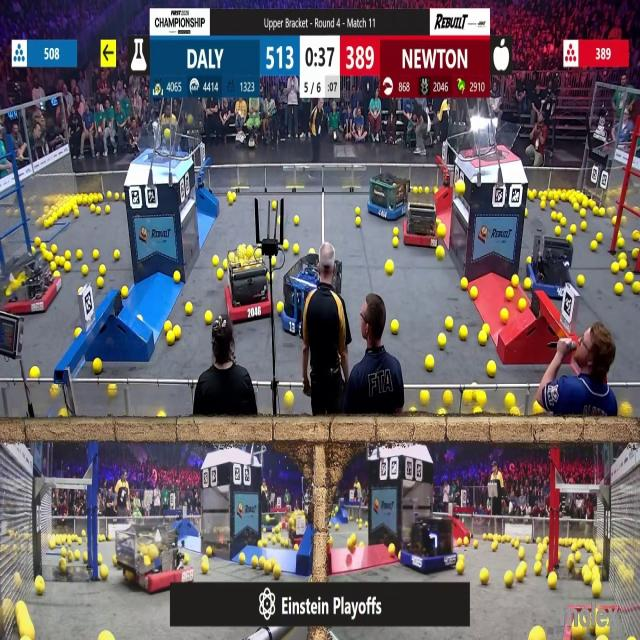ball_airborne: (457, 181, 465, 193), (165, 130, 171, 139), (172, 114, 176, 121)
ball_ground: (22, 622, 34, 640), (530, 628, 544, 640), (36, 578, 45, 596), (592, 583, 602, 598), (488, 360, 497, 376), (481, 568, 490, 584), (622, 404, 632, 418), (425, 355, 434, 370), (504, 571, 513, 586), (549, 573, 558, 588), (444, 391, 453, 406), (505, 393, 514, 407), (285, 392, 293, 407), (477, 392, 486, 405), (94, 358, 102, 372), (390, 320, 398, 334), (439, 335, 447, 349), (274, 564, 282, 578), (456, 560, 464, 574), (421, 391, 429, 405), (517, 568, 525, 582), (61, 559, 68, 574), (386, 262, 394, 275), (446, 317, 454, 330), (459, 326, 467, 339), (167, 333, 175, 346), (584, 571, 592, 584), (463, 390, 472, 401), (203, 560, 210, 574), (101, 566, 108, 580), (479, 334, 487, 346), (500, 310, 508, 322), (460, 278, 468, 290), (173, 326, 181, 338), (438, 224, 446, 236), (100, 632, 112, 640), (205, 312, 212, 325), (438, 247, 445, 260), (388, 543, 395, 556), (576, 276, 584, 287), (616, 283, 624, 294), (31, 365, 39, 376), (620, 261, 628, 272), (528, 188, 536, 199), (533, 405, 541, 416), (594, 554, 602, 565), (185, 304, 192, 316), (506, 287, 513, 299), (469, 287, 476, 299), (519, 300, 526, 312), (633, 282, 640, 294), (163, 322, 170, 334), (265, 562, 272, 574), (44, 251, 52, 261), (81, 266, 88, 277), (174, 273, 181, 284), (513, 276, 520, 287), (626, 273, 633, 284), (591, 241, 598, 252), (93, 249, 100, 260), (348, 537, 355, 548), (252, 556, 258, 568), (611, 264, 618, 274), (65, 250, 72, 260), (212, 256, 219, 266), (596, 234, 603, 244), (74, 327, 81, 337), (100, 266, 106, 277), (121, 286, 127, 297), (98, 277, 104, 288), (114, 249, 120, 260), (534, 563, 540, 574), (472, 408, 480, 416), (619, 239, 626, 248), (579, 221, 586, 230), (61, 411, 68, 420), (66, 264, 72, 274), (392, 238, 398, 248), (632, 250, 638, 260), (217, 270, 223, 280), (556, 224, 562, 234), (525, 279, 531, 289), (76, 250, 82, 260), (570, 223, 576, 233), (632, 232, 638, 242), (519, 550, 525, 560), (53, 242, 59, 252), (395, 547, 400, 559), (520, 562, 527, 570), (272, 255, 277, 266), (579, 208, 585, 217), (492, 541, 498, 550), (539, 201, 545, 210), (98, 193, 104, 202), (35, 239, 41, 248), (277, 304, 283, 313), (574, 553, 580, 562), (356, 216, 361, 226), (240, 554, 245, 564), (293, 242, 298, 252), (83, 552, 88, 562), (98, 554, 103, 564), (207, 546, 212, 556), (440, 410, 447, 417), (272, 202, 278, 210), (293, 216, 299, 224), (483, 324, 489, 332), (552, 212, 558, 220), (227, 198, 233, 206), (50, 264, 56, 272), (611, 216, 616, 225), (75, 552, 80, 561), (463, 537, 468, 546), (561, 217, 566, 226), (74, 209, 79, 218), (222, 262, 227, 271), (56, 255, 61, 264), (64, 549, 69, 558), (293, 543, 299, 550), (551, 201, 557, 208), (160, 413, 166, 420), (393, 227, 398, 235), (524, 210, 529, 218), (92, 205, 97, 213), (114, 192, 119, 200), (594, 208, 599, 216), (227, 190, 232, 198), (99, 534, 104, 542), (284, 241, 288, 250), (97, 206, 101, 215), (309, 248, 315, 254), (458, 537, 462, 546), (527, 256, 532, 263), (567, 236, 572, 243), (56, 272, 61, 279), (618, 233, 623, 240), (424, 186, 429, 193), (363, 522, 368, 529), (81, 530, 86, 537), (473, 540, 477, 548), (278, 216, 282, 224), (32, 246, 36, 254), (113, 558, 117, 566), (359, 541, 364, 547), (204, 556, 210, 561), (356, 208, 360, 215), (106, 207, 110, 214), (108, 191, 112, 198), (120, 192, 124, 199), (258, 540, 262, 547), (536, 554, 540, 561), (337, 524, 341, 531), (484, 534, 488, 540), (108, 534, 112, 540)
goal: (464, 121, 522, 160), (130, 130, 188, 160)
robot_blue: (280, 254, 323, 336), (403, 514, 456, 573), (528, 239, 574, 301), (368, 174, 407, 221)
robot_red: (115, 519, 191, 595), (226, 244, 272, 320), (4, 256, 62, 315), (405, 192, 438, 246)
